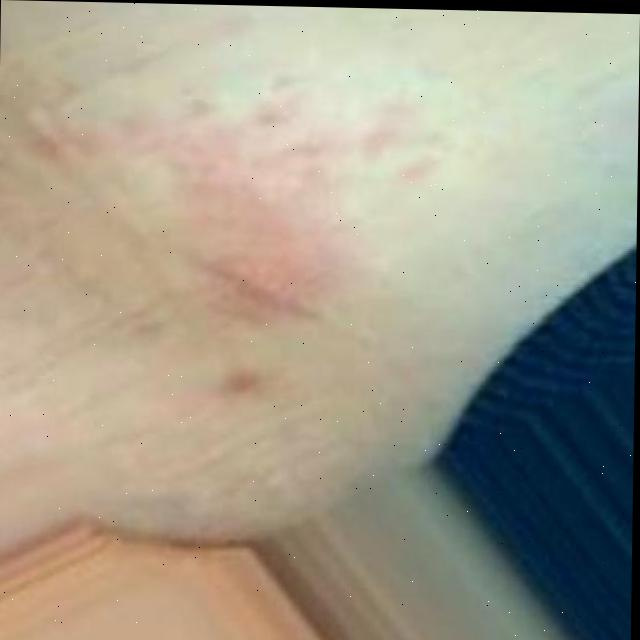Shingles: (174, 100, 341, 318)
